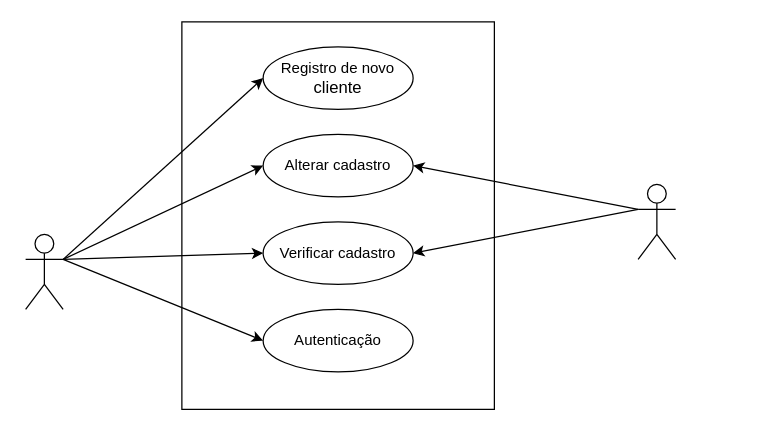
Image size: 780x431. Some labels were removed from this diagram. Each missing label, with the box of its shape:
Cliente: (24, 233, 63, 309)
Módulo de Serviços ao Cliente: (637, 183, 676, 259)
